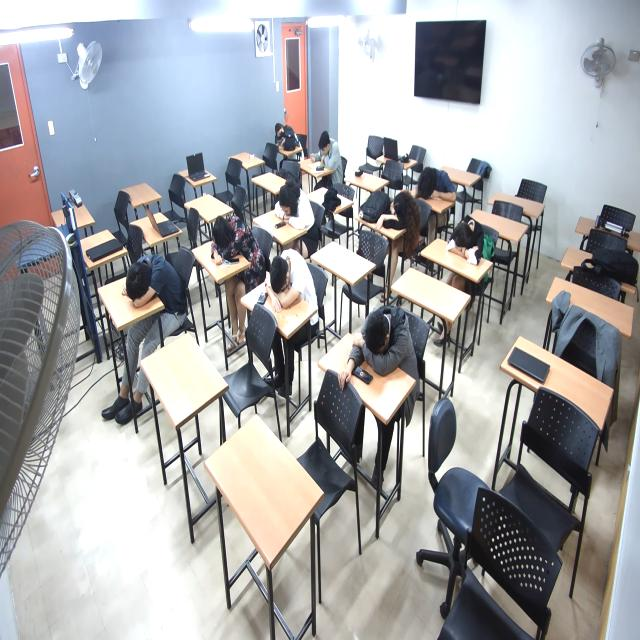sleep: (353, 301, 418, 383), (264, 247, 316, 314), (120, 253, 181, 310), (208, 212, 261, 272), (445, 214, 491, 272), (273, 176, 316, 234), (376, 191, 422, 238), (414, 165, 460, 208), (275, 121, 301, 152)
